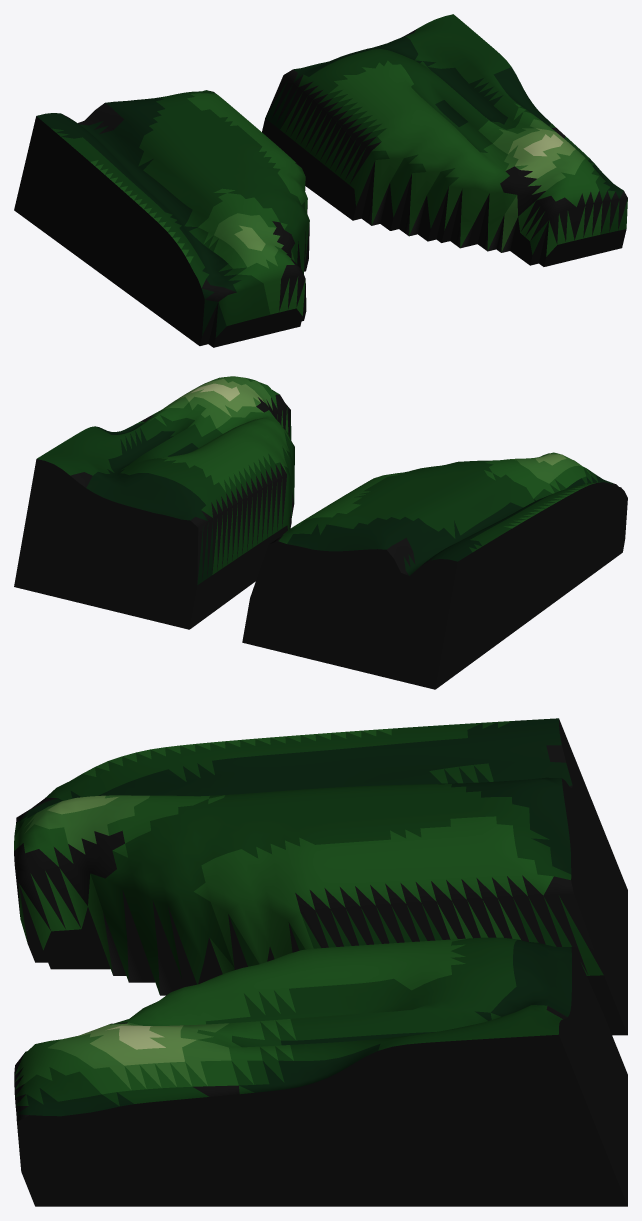
File: green_shell_269.glb
3 views of the same model, one above another, from view 1: azimuth 30°, elevation 25°; view 2: azimuth 150°, elevation 25°; view 3: azimuth 270°, elevation 25° (orthographic). The views are drawn at different scales.
Visible parts, largest first — view 1: green_shell_269; view 2: green_shell_269; view 3: green_shell_269.
Part boxes in pixels (bbox=[...]): green_shell_269: bbox=[14, 14, 627, 347]; green_shell_269: bbox=[14, 376, 627, 689]; green_shell_269: bbox=[14, 718, 627, 1206].
Size of the model in its own units: 24 by 6.11 by 19.68.
